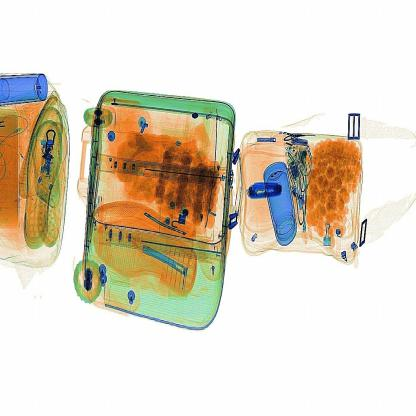scissors: (242, 175, 291, 207)
